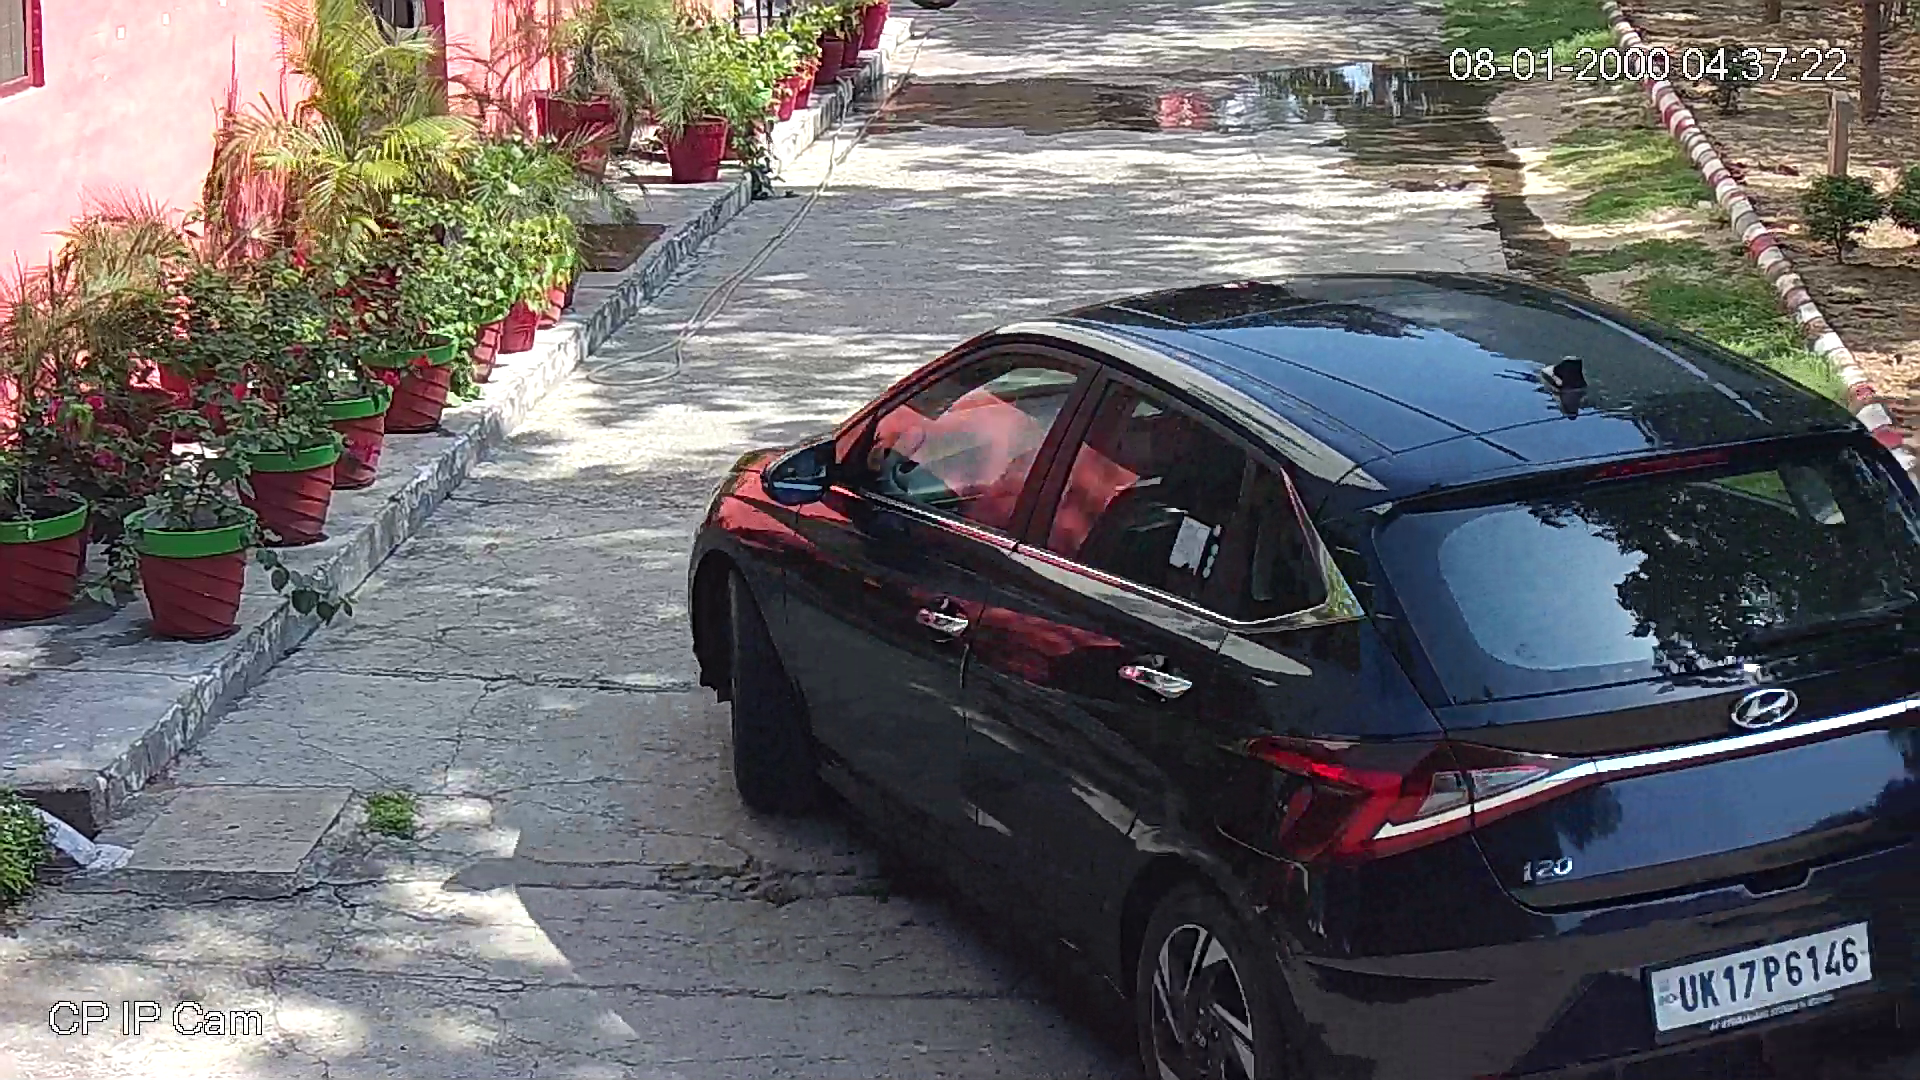plate: (1644, 909, 1884, 1041)
